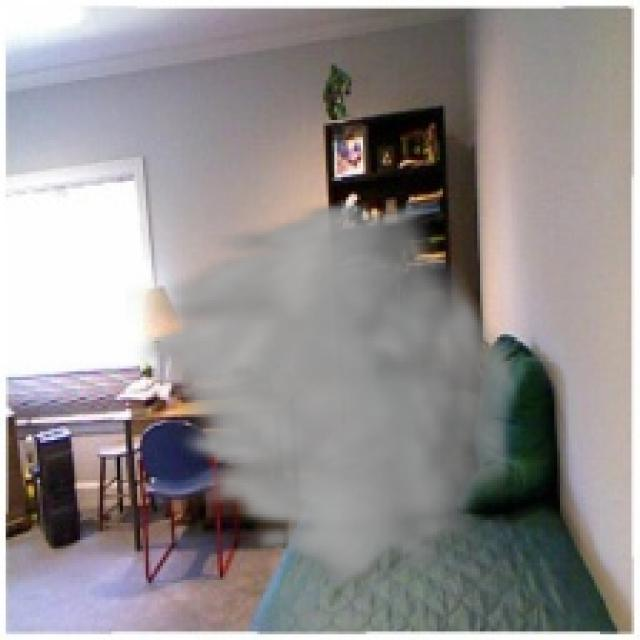smoke: (125, 197, 526, 594)
